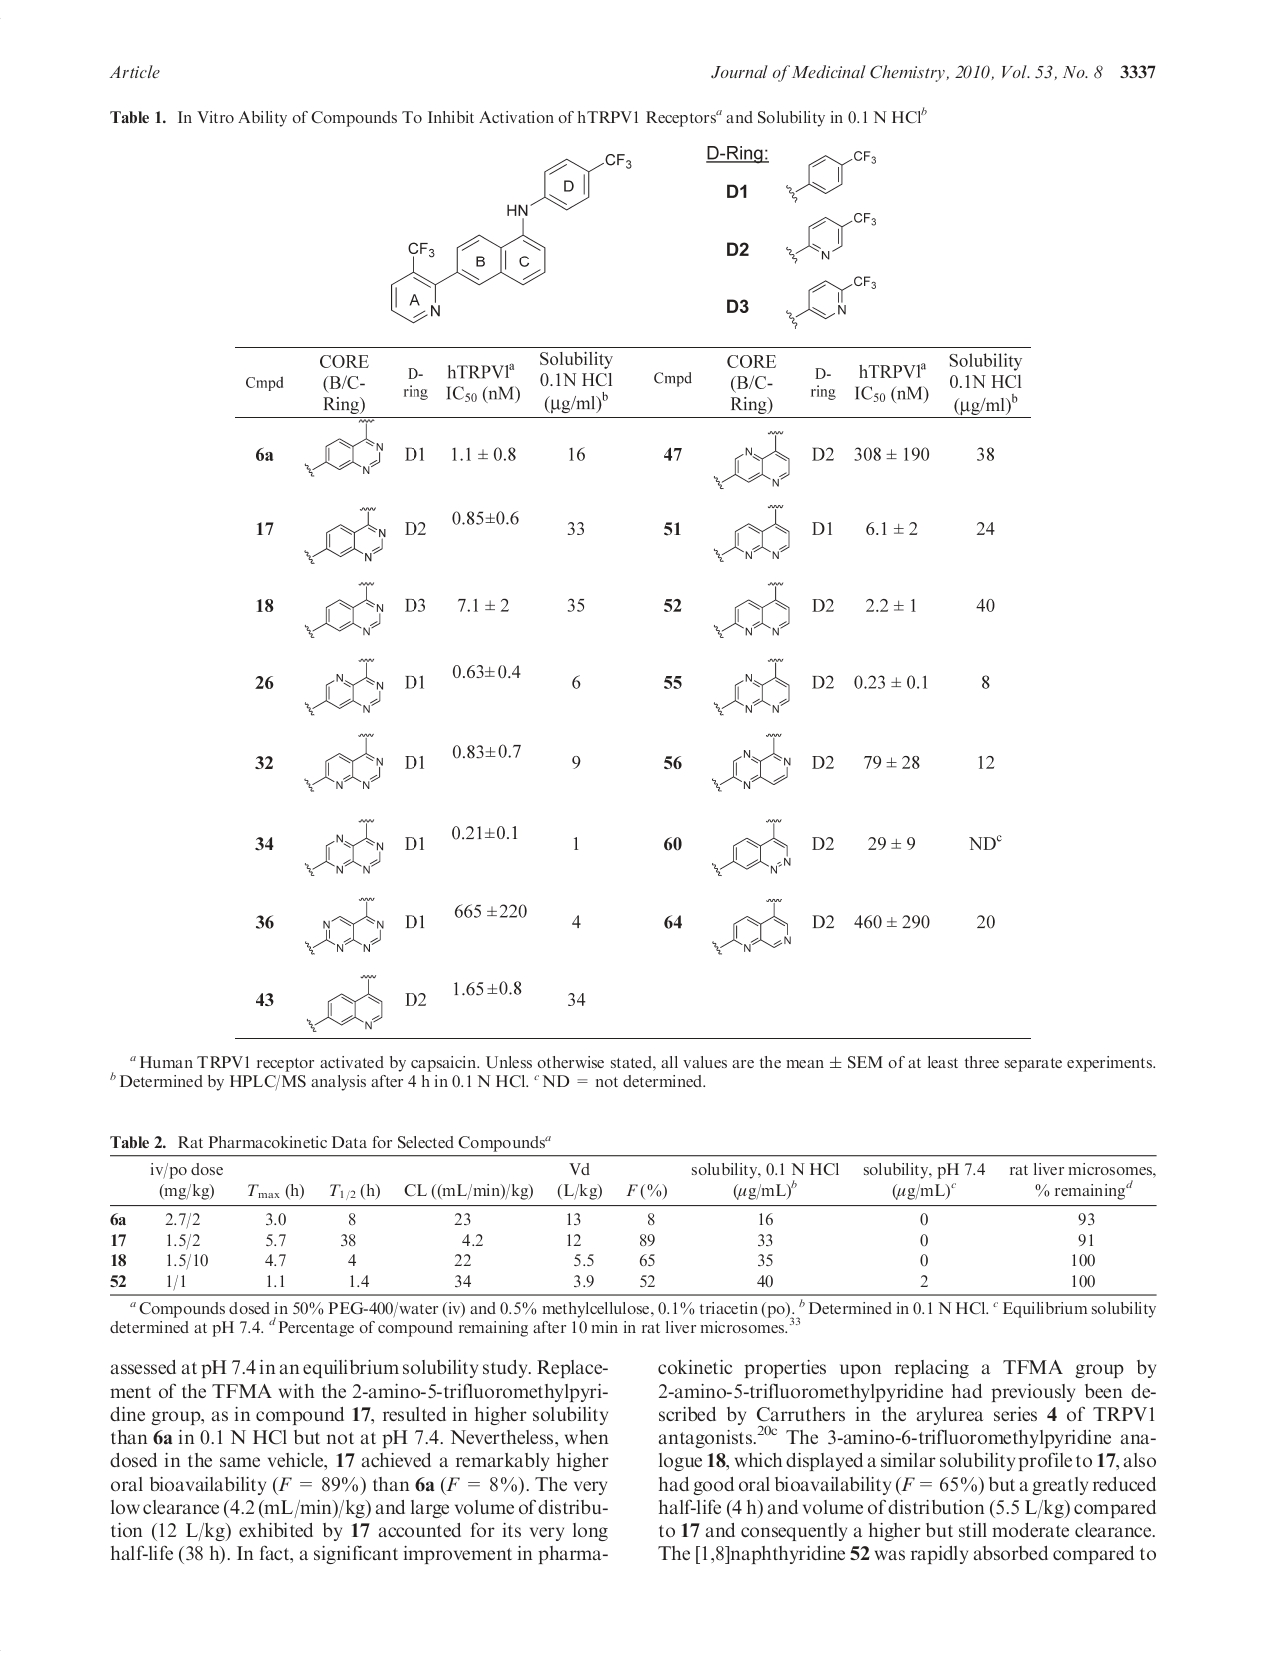exist_molecular: (386, 144, 637, 330), (299, 809, 404, 888), (302, 886, 407, 962), (706, 807, 805, 884), (301, 653, 406, 725), (306, 731, 407, 805), (779, 265, 892, 328), (302, 963, 404, 1032), (706, 497, 807, 565), (297, 575, 395, 644), (779, 140, 883, 205), (711, 578, 801, 653), (299, 501, 392, 572), (709, 725, 802, 795), (711, 891, 797, 963), (702, 428, 799, 491), (711, 654, 797, 725), (779, 203, 878, 263), (305, 416, 388, 484)
